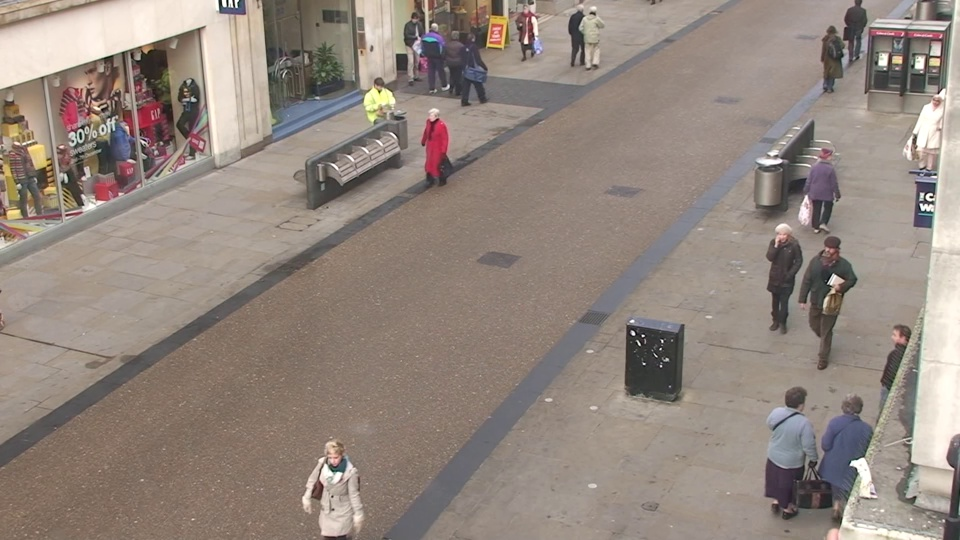pedestrian: (816, 382, 879, 540), (760, 376, 819, 540), (309, 430, 372, 540), (803, 232, 851, 359), (759, 219, 803, 342), (909, 90, 955, 184), (802, 142, 841, 246), (419, 105, 451, 198), (365, 75, 395, 158), (813, 23, 844, 96), (458, 31, 484, 102), (442, 28, 467, 99), (422, 20, 447, 88), (404, 11, 428, 77), (582, 3, 605, 68), (517, 2, 540, 67), (569, 0, 591, 64)
